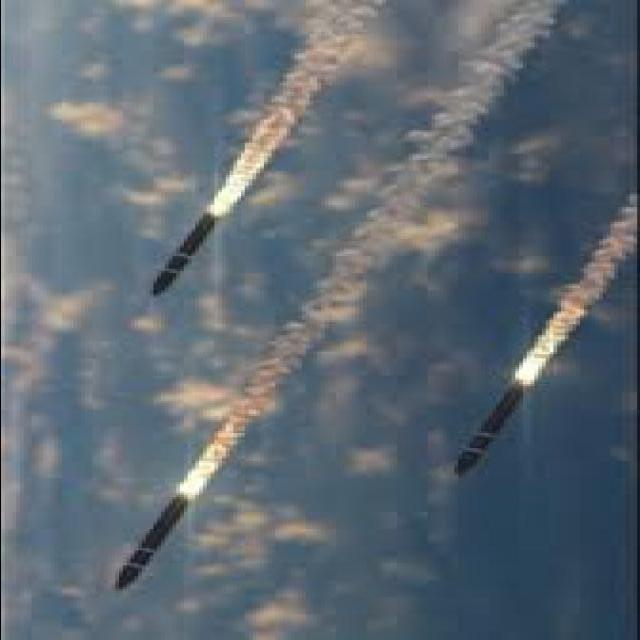missile: (112, 488, 190, 600), (142, 200, 222, 300), (455, 379, 524, 477)
